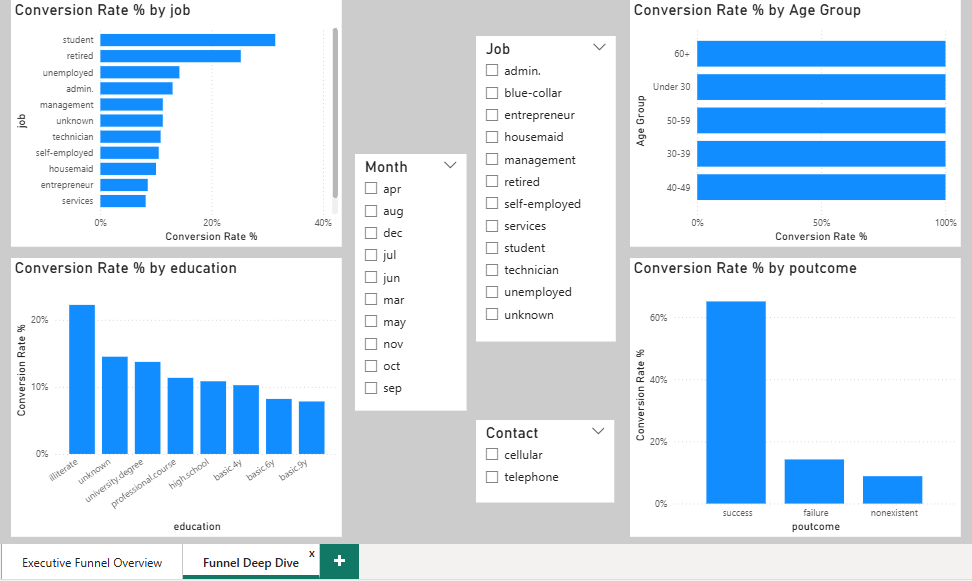

The dashboard page shown, as its layout file describes it:
{"tool":"powerbi","page":{"name":"Funnel Deep Dive","canvas":[1280,720],"ordinal":1},"visuals":[{"type":"clusteredBarChart","fields":{"Y":["bank-additional-full.Conversion Rate %"],"Category":["bank-additional-full.job"]},"box":[20.2,8.4,433.4,322.5],"z":0},{"type":"columnChart","fields":{"Y":["bank-additional-full.Conversion Rate %"],"Category":["bank-additional-full.education"]},"box":[20.2,346,433.4,364.5],"z":1000},{"type":"hundredPercentStackedBarChart","fields":{"Y":["bank-additional-full.Conversion Rate %"],"Category":["bank-additional-full.Age Group"]},"box":[829.8,8.4,433,322.5],"z":2000},{"type":"clusteredColumnChart","fields":{"Category":["bank-additional-full.poutcome"],"Y":["bank-additional-full.Conversion Rate %"]},"box":[829.8,346,433,364.5],"z":3000},{"type":"slicer","fields":{"Values":["bank-additional-full.month"]},"box":[470.3,210,146.1,336],"z":4000},{"type":"slicer","fields":{"Values":["bank-additional-full.contact"]},"box":[628.2,557.7,181.4,107.5],"z":5000},{"type":"slicer","fields":{"Values":["bank-additional-full.job"]},"box":[628.2,55.4,183.1,399.8],"z":6000}]}

Visuals, with their boxes on the page's 1280x720 design canvas (x1, y1, x2, y2). These are canvas units, not pixel positions in the 972x581 screenshot, which may show the page scaled, cropped or inside an application window:
clusteredBarChart - bank-additional-full.Conversion Rate % x bank-additional-full.job: l=20, t=8, r=454, b=331
columnChart - bank-additional-full.Conversion Rate % x bank-additional-full.education: l=20, t=346, r=454, b=710
hundredPercentStackedBarChart - bank-additional-full.Conversion Rate % x bank-additional-full.Age Group: l=830, t=8, r=1263, b=331
clusteredColumnChart - bank-additional-full.poutcome x bank-additional-full.Conversion Rate %: l=830, t=346, r=1263, b=710
slicer - bank-additional-full.month: l=470, t=210, r=616, b=546
slicer - bank-additional-full.contact: l=628, t=558, r=810, b=665
slicer - bank-additional-full.job: l=628, t=55, r=811, b=455
